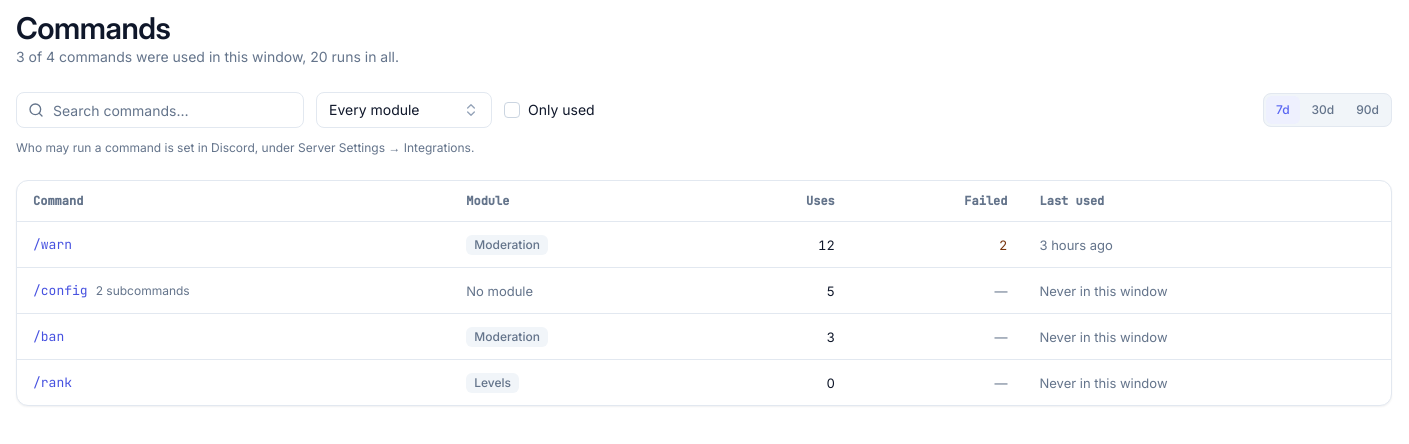
Test: CommandsScreen › offers a different empty state than an empty table
Type "zzzz" into the search field labelled "Search commands". click: (160, 110)
box: [16,92,304,128]
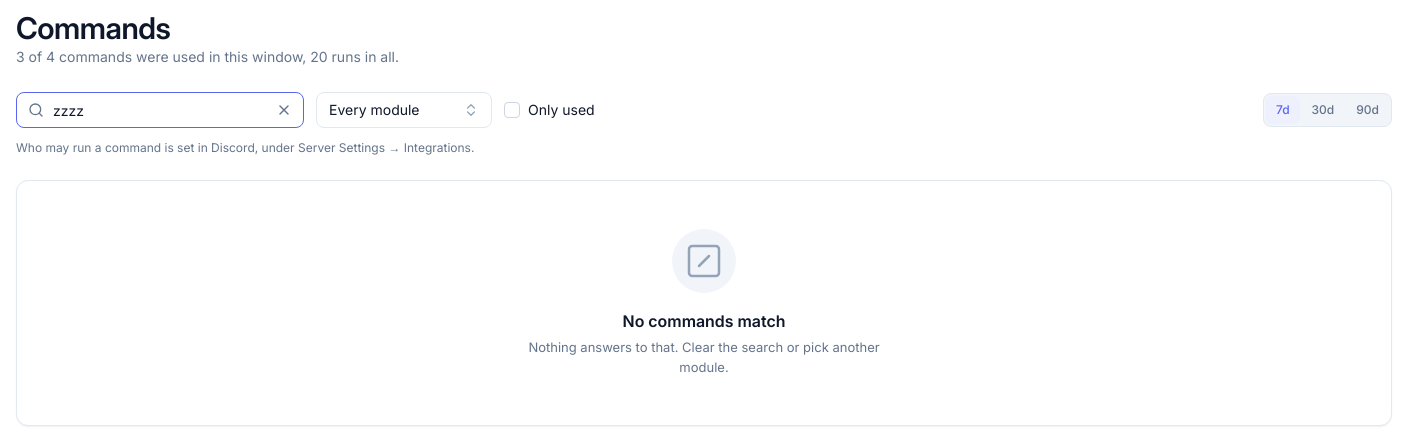
expect the heading "No commands match" is shown: met, box [623,309,785,333]
